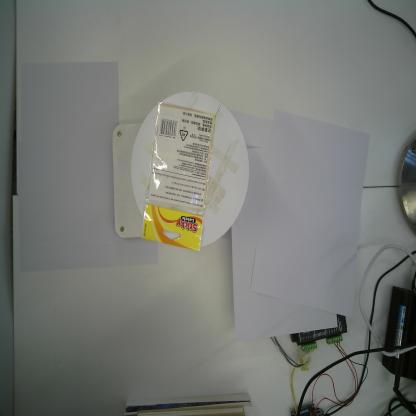Stationery: (139, 99, 219, 254)
